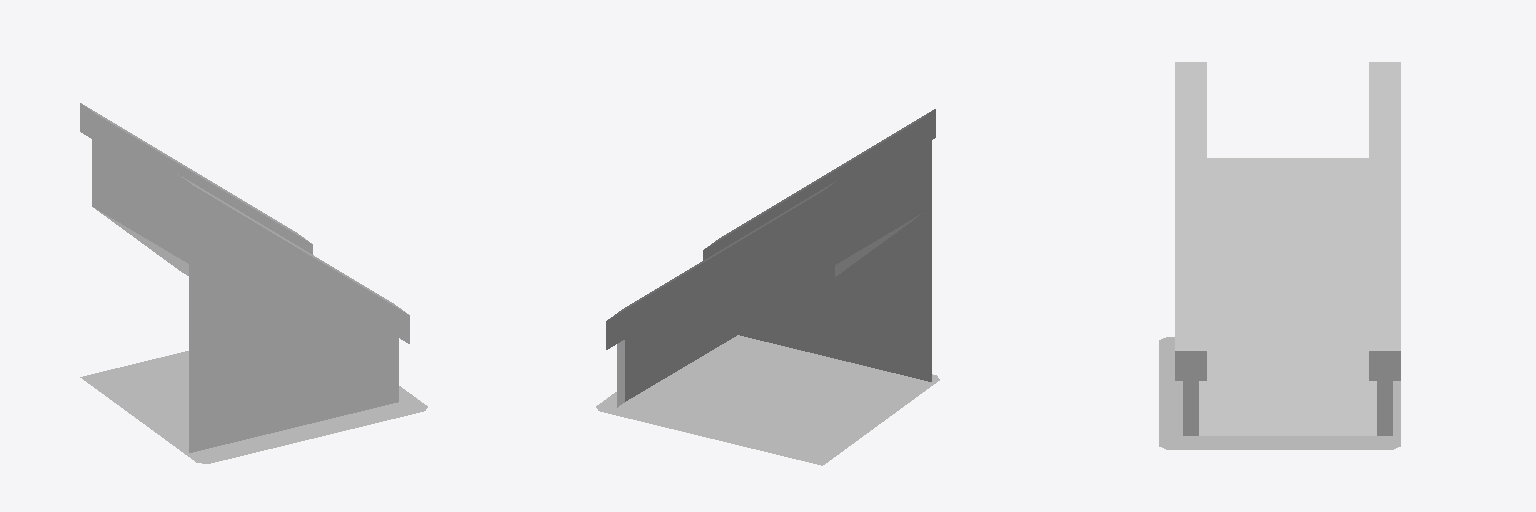
File: Up-Left Stairs.obj
The picture shows the model from 3 angles: view 1: azimuth 30°, elevation 25°; view 2: azimuth 150°, elevation 25°; view 3: azimuth 270°, elevation 25°; orthographic projection.
Visible parts, largest first — view 1: polygon1, polygon0, polygon2; view 2: polygon1, polygon2, polygon0; view 3: polygon1, polygon0, polygon2.
Boxes of the visible parts, <box> form: polygon1: <box>92,125,398,452</box>; polygon0: <box>80,103,409,343</box>; polygon2: <box>80,351,427,463</box>; polygon1: <box>617,125,931,407</box>; polygon2: <box>596,335,939,465</box>; polygon0: <box>606,109,935,349</box>; polygon1: <box>1183,158,1392,435</box>; polygon0: <box>1175,62,1400,380</box>; polygon2: <box>1159,337,1400,449</box>.
Bounding box in the file's own units: 33 × 37.5 × 30.